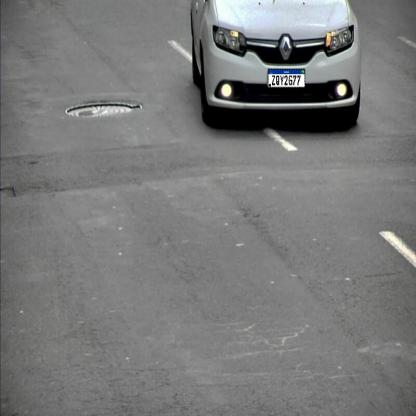PlacaM: (268, 69, 305, 88)
